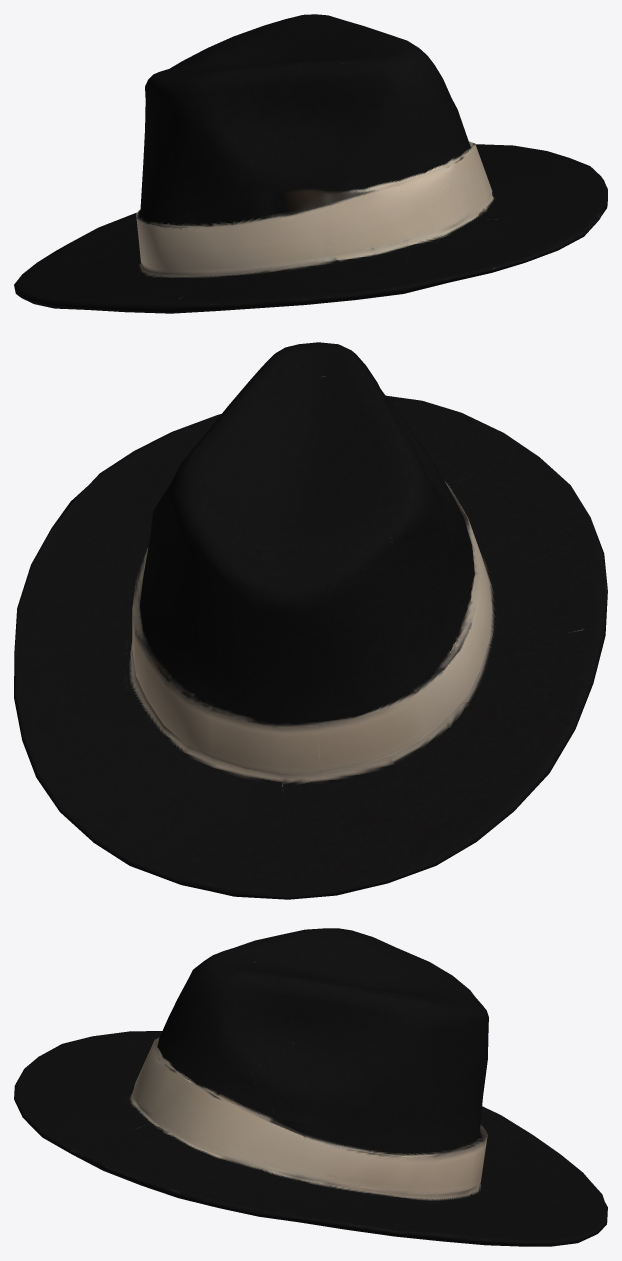
The model's file is hat.glb.
3 renders of one model, top to bottom at view 1: azimuth 30°, elevation 25°; view 2: azimuth 150°, elevation 25°; view 3: azimuth 270°, elevation 25°, orthographic. The views are drawn at different scales.
Size of the model in its own units: 0.6426 by 0.3936 by 0.7339.
1 material, 1 textured.
